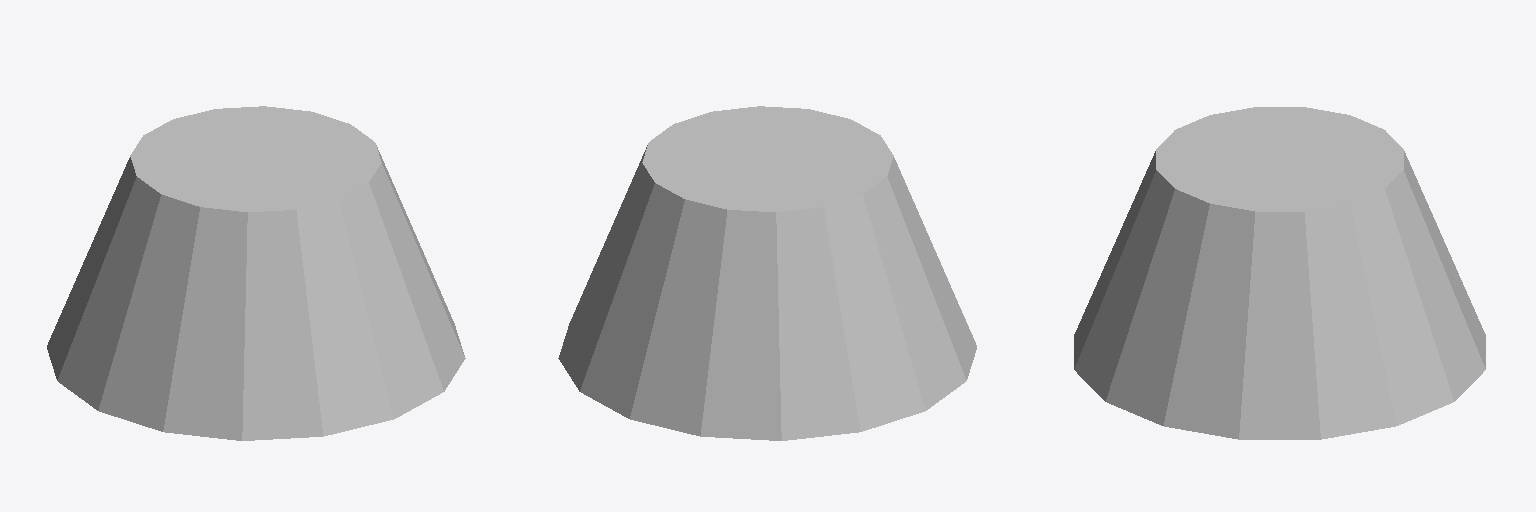
Rendered from Gemini_Crew_B_Collider.obj.
The picture shows the model from 3 angles: view 1: azimuth 30°, elevation 25°; view 2: azimuth 150°, elevation 25°; view 3: azimuth 270°, elevation 25°; orthographic projection.
Visible parts, largest first — view 1: Gemini_Crew_B_Collider; view 2: Gemini_Crew_B_Collider; view 3: Gemini_Crew_B_Collider.
Part boxes in pixels (bbox=[...]): Gemini_Crew_B_Collider: bbox=[47, 106, 465, 440]; Gemini_Crew_B_Collider: bbox=[558, 106, 976, 440]; Gemini_Crew_B_Collider: bbox=[1074, 107, 1485, 439].
Bounding box in the file's own units: 2.5 × 1.29 × 2.5.